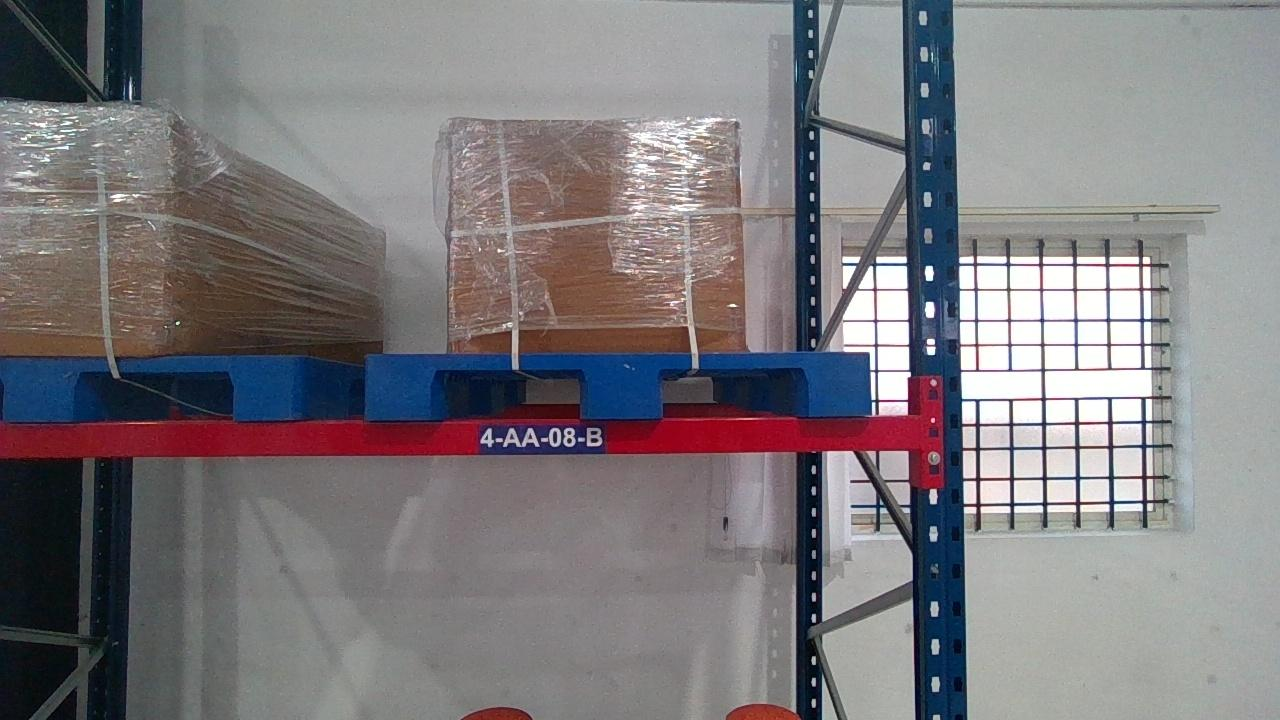h_rack: (3, 416, 923, 456)
small_pallet: (364, 350, 872, 414), (0, 355, 305, 416)
